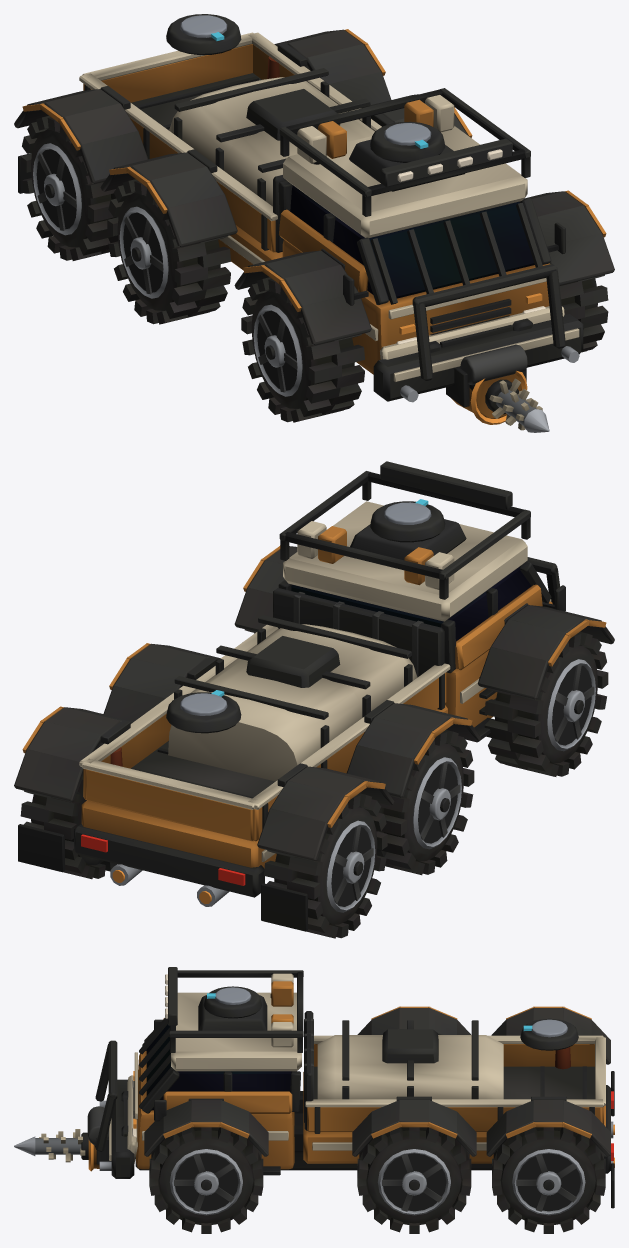
File: ex_rover_4.glb
3 views of the same model, one above another, from view 1: azimuth 30°, elevation 25°; view 2: azimuth 150°, elevation 25°; view 3: azimuth 270°, elevation 25° (orthographic). The views are drawn at different scales.
Parts seen in each view (by area): view 1: body, wheel_1, wheel_3, wheel_5, wheel_0, drill; view 2: body, wheel_1, wheel_5, wheel_3, wheel_4; view 3: body, wheel_0, wheel_2, wheel_4, drill.
Part boxes in pixels (x1=…): body: x1=14, y1=14, x2=614, y2=424; wheel_1: x1=241, y1=277, x2=364, y2=422; wheel_3: x1=107, y1=179, x2=230, y2=324; wheel_5: x1=20, y1=116, x2=118, y2=260; wheel_0: x1=559, y1=274, x2=608, y2=352; drill: x1=485, y1=378, x2=549, y2=432; body: x1=14, y1=461, x2=614, y2=931; wheel_1: x1=484, y1=632, x2=608, y2=776; wheel_5: x1=264, y1=793, x2=387, y2=938; wheel_3: x1=376, y1=730, x2=474, y2=875; wheel_4: x1=20, y1=742, x2=116, y2=879; body: x1=87, y1=967, x2=614, y2=1208; wheel_0: x1=149, y1=1127, x2=263, y2=1233; wheel_2: x1=357, y1=1127, x2=471, y2=1233; wheel_4: x1=492, y1=1127, x2=605, y2=1233; drill: x1=14, y1=1129, x2=88, y2=1162.
Size of the model in its own units: 4.84 by 3.59 by 10.41.
